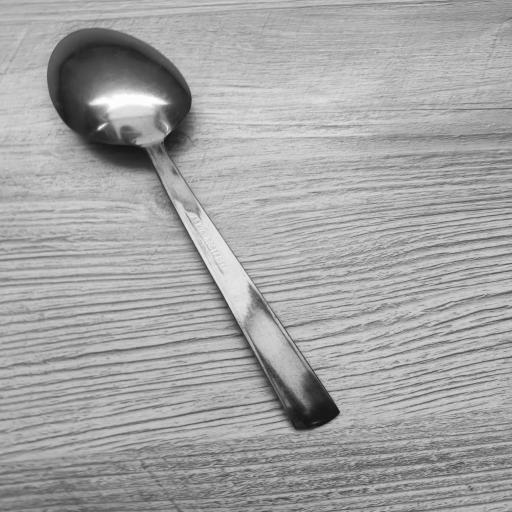spoon: (44, 24, 339, 432)
